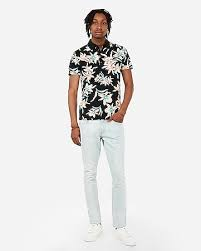S_polo shirt: (63, 43, 135, 122)
